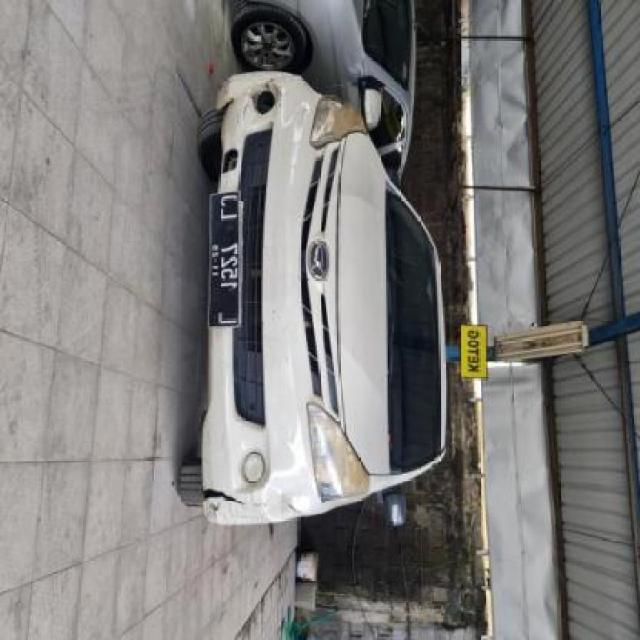damage: (513, 434, 552, 586), (210, 444, 254, 572)
